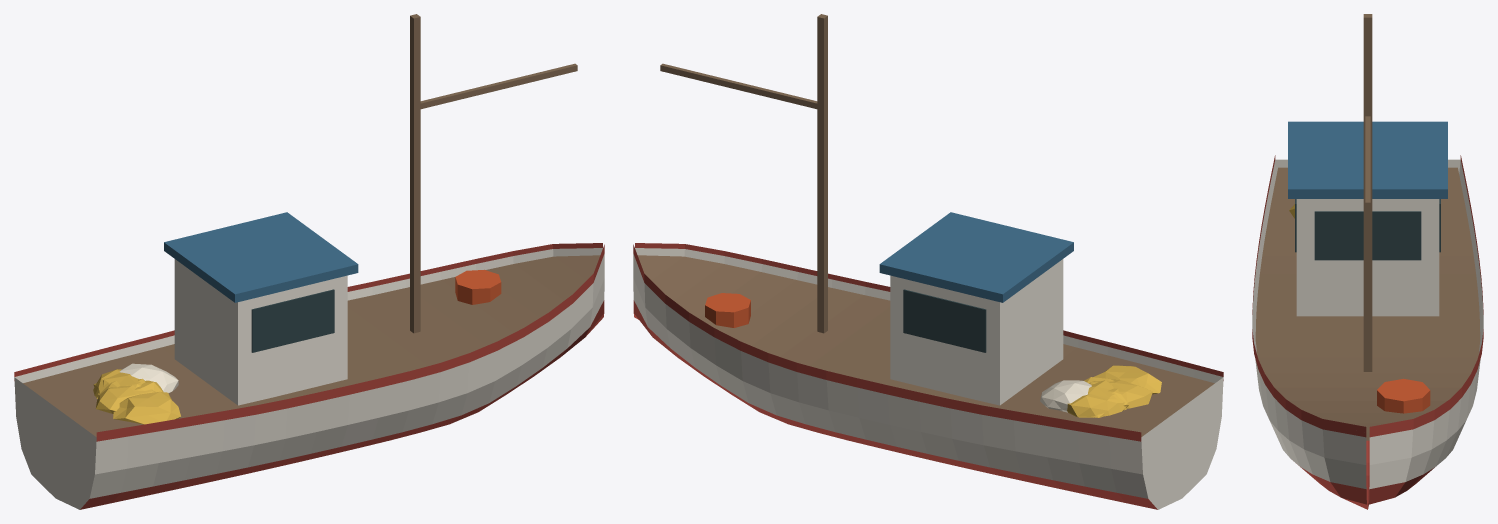
The model's file is balikci-teknesi-beyaz-kirmizi.glb.
The picture shows the model from 3 angles, left to right: view 1: azimuth 30°, elevation 25°; view 2: azimuth 150°, elevation 25°; view 3: azimuth 270°, elevation 25°; orthographic projection. The views are drawn at different scales.
Parts seen in each view (by area): view 1: tekne_beyaz, ahsap, tekne_kirmizi, tekne_mavi, cam, tekne_sari, can, ip; view 2: tekne_beyaz, ahsap, tekne_kirmizi, tekne_mavi, cam, tekne_sari, can, ip; view 3: ahsap, tekne_beyaz, tekne_mavi, cam, tekne_kirmizi, can.
Part boxes in pixels (box(x1,y1,x2,y2)): tekne_beyaz: box(14, 248, 604, 509); ahsap: box(23, 14, 600, 436); tekne_kirmizi: box(14, 243, 604, 509); tekne_mavi: box(164, 212, 358, 302); cam: box(251, 289, 334, 352); tekne_sari: box(93, 369, 180, 424); can: box(455, 269, 501, 304); ip: box(119, 363, 178, 393); tekne_beyaz: box(633, 248, 1223, 509); ahsap: box(637, 14, 1214, 436); tekne_kirmizi: box(633, 243, 1223, 509); tekne_mavi: box(879, 212, 1073, 302); cam: box(903, 289, 986, 352); tekne_sari: box(1067, 365, 1161, 417); can: box(705, 293, 750, 327); ip: box(1040, 380, 1091, 412); ahsap: box(1255, 14, 1480, 440); tekne_beyaz: box(1252, 159, 1483, 489); tekne_mavi: box(1288, 121, 1447, 198); cam: box(1295, 199, 1440, 260); tekne_kirmizi: box(1252, 155, 1483, 509); can: box(1377, 378, 1430, 413).
Size of the model in its own units: 8 by 5.5 by 2.6.
